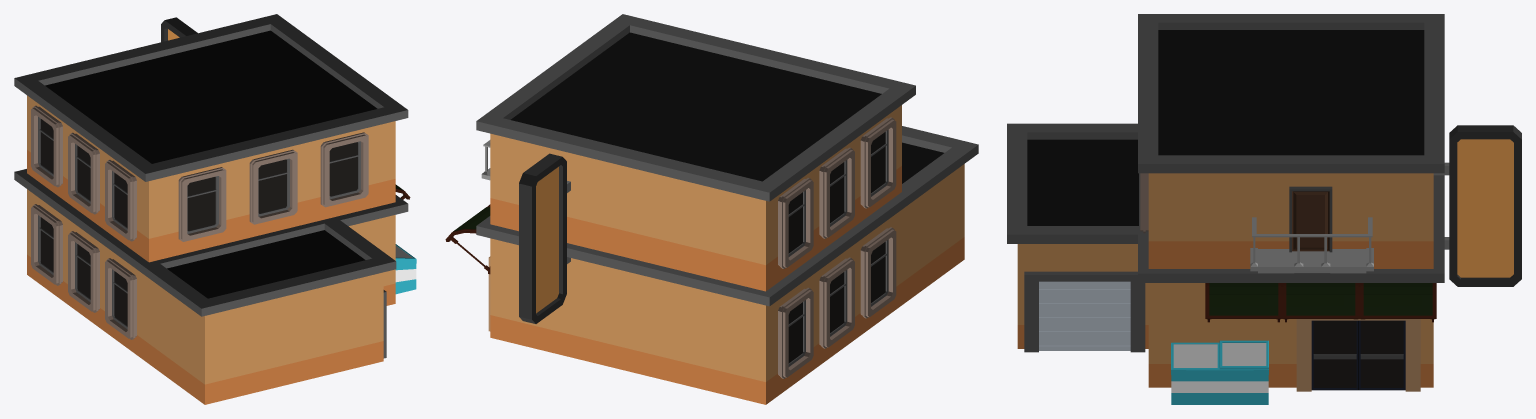
Rendered from House 4.fbx.
3 renders of one model, left to right at view 1: azimuth 30°, elevation 25°; view 2: azimuth 150°, elevation 25°; view 3: azimuth 270°, elevation 25°, orthographic. The views are drawn at different scales.
Visible parts, largest first — view 1: House 4; view 2: House 4; view 3: House 4.
Boxes of the visible parts, x1,y1,x2,y2 form: House 4: (14, 14, 416, 404); House 4: (445, 14, 978, 404); House 4: (1007, 14, 1521, 404).
Bounding box in the file's own units: 12.43 × 6.08 × 9.6.
